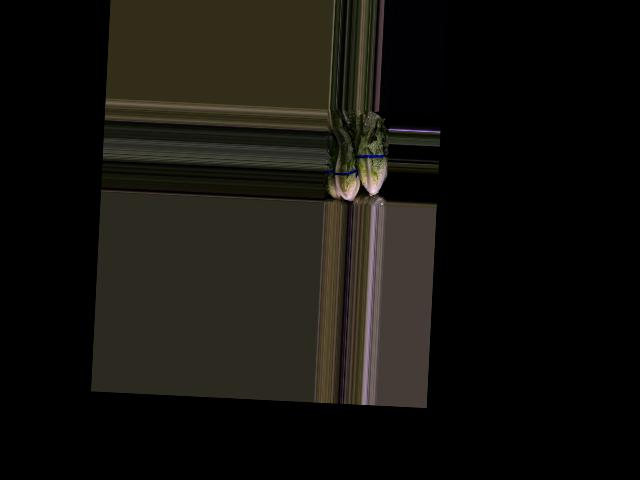lettuce: (327, 125, 363, 202)
